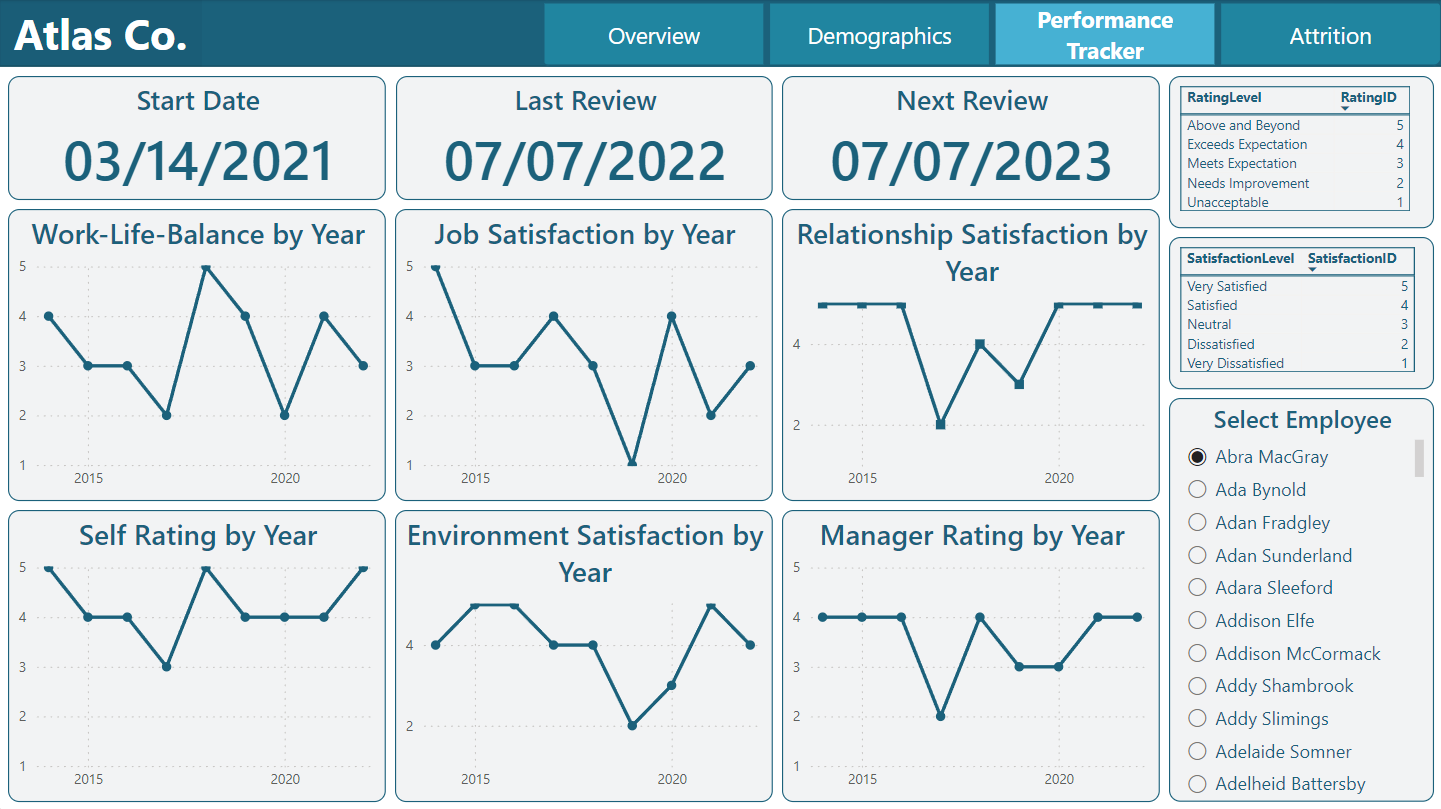

What the dashboard file says about the page in this screenshot:
{"tool":"powerbi","page":{"name":"Performance Tracker","canvas":[1280,720],"ordinal":2},"visuals":[{"type":"slicer","title":"Select Employee","fields":{"Values":["DimEmployee.FullName"]},"box":[1037,354,235,358],"z":0},{"type":"card","title":"Start Date","fields":{"Values":["Min(DimEmployee.HireDate)"]},"box":[8,68.3,335.2,110],"z":1000},{"type":"card","title":"Last Review","fields":{"Values":["_Measures.LastReviewDate"]},"box":[352,68.3,334.3,110],"z":2000},{"type":"card","title":"Next Review","fields":{"Values":["_Measures.NextReviewDate"]},"box":[694.3,68.3,335.2,110],"z":3000},{"type":"lineChart","title":"Environment Satisfaction by Year","fields":{"Category":["DimDate.Year"],"Y":["_Measures.EnvironmentSatisfaction"]},"box":[351,453,335,259],"z":4000},{"type":"lineChart","title":"Work-Life-Balance by Year","fields":{"Category":["DimDate.Year"],"Y":["_Measures.WorkLifeBalance"]},"box":[8,186,335,259],"z":5000},{"type":"lineChart","title":"Relationship Satisfaction by Year","fields":{"Category":["DimDate.Year"],"Y":["_Measures.RelationshipSatisfaction"]},"box":[694,186,335,259],"z":6000},{"type":"lineChart","title":"Job Satisfaction by Year","fields":{"Category":["DimDate.Year"],"Y":["_Measures.JobSatisfaction"]},"box":[351,186,335,259],"z":7000},{"type":"lineChart","title":"Self Rating by Year","fields":{"Category":["DimDate.Year"],"Y":["_Measures.SelfRating"]},"box":[8,453,335,259],"z":8000},{"type":"lineChart","title":"Manager Rating by Year","fields":{"Category":["DimDate.Year"],"Y":["_Measures.ManagerRating"]},"box":[694,453,335,259],"z":9000},{"type":"tableEx","fields":{"Values":["DimRatingLevel.RatingLevel","DimRatingLevel.RatingID"]},"box":[1037,68,235,135],"z":10000},{"type":"shape","box":[0,0,1280,60],"z":11000},{"type":"pageNavigator","box":[480,0,800,60],"z":12000},{"type":"textbox","box":[0,0,180,60],"z":13000},{"type":"tableEx","fields":{"Values":["DimSatisfiedLevel.SatisfactionLevel","DimSatisfiedLevel.SatisfactionID"]},"box":[1037.4,211,235,135],"z":14000}]}

Visuals, with their boxes in screenshot pixels (x1, y1, x2, y2), scaled from the page's 1280x720 canvas onto the 1441x809 screenshot:
"Select Employee" slicer: (left=1167, top=398, right=1432, bottom=800)
"Start Date" card: (left=9, top=77, right=386, bottom=200)
"Last Review" card: (left=396, top=77, right=773, bottom=200)
"Next Review" card: (left=782, top=77, right=1159, bottom=200)
"Environment Satisfaction by Year" lineChart: (left=395, top=509, right=772, bottom=800)
"Work-Life-Balance by Year" lineChart: (left=9, top=209, right=386, bottom=500)
"Relationship Satisfaction by Year" lineChart: (left=781, top=209, right=1158, bottom=500)
"Job Satisfaction by Year" lineChart: (left=395, top=209, right=772, bottom=500)
"Self Rating by Year" lineChart: (left=9, top=509, right=386, bottom=800)
"Manager Rating by Year" lineChart: (left=781, top=509, right=1158, bottom=800)
tableEx - DimRatingLevel.RatingLevel x DimRatingLevel.RatingID: (left=1167, top=76, right=1432, bottom=228)
shape: (left=0, top=0, right=1440, bottom=67)
pageNavigator: (left=540, top=0, right=1440, bottom=67)
textbox: (left=0, top=0, right=203, bottom=67)
tableEx - DimSatisfiedLevel.SatisfactionLevel x DimSatisfiedLevel.SatisfactionID: (left=1168, top=237, right=1432, bottom=389)
